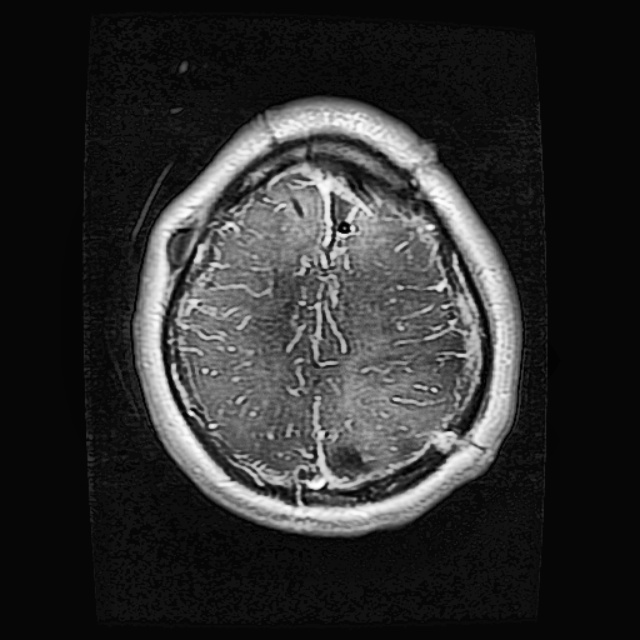Meningioma: (323, 440, 370, 479)
